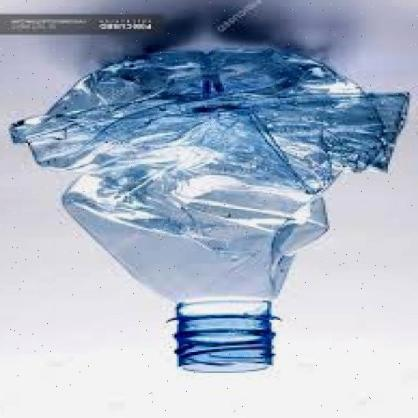bottle: (12, 41, 410, 387)
